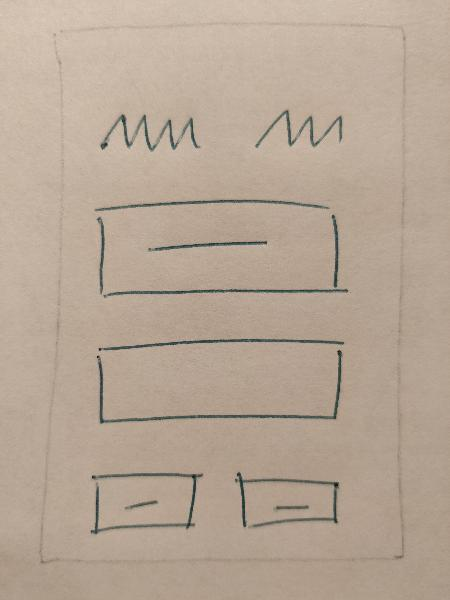button: (80, 195, 364, 312), (227, 464, 348, 537), (82, 466, 205, 537)
switch: (244, 97, 353, 160)
text: (93, 106, 210, 164)
text_input: (82, 332, 357, 436)
